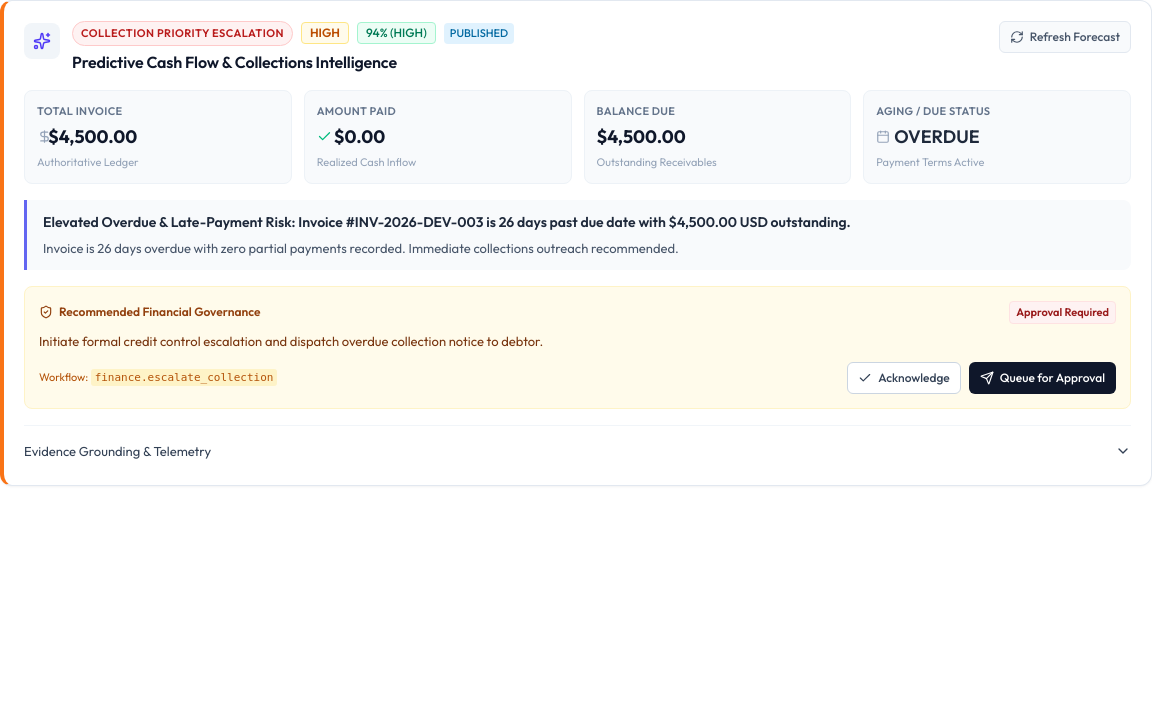
FinanceCollectionsPredictiveIntelligenceCard › expands telemetry and displays grounding sources and signals
The image size is (1152, 720).
expect the text "Evidence Grounding & Telemetry" is shown: met, box [24,442,211,461]
Click the button "Evidence Grounding & Telemetry": (118, 451) [24,438,1131,465]
(page scrolled)
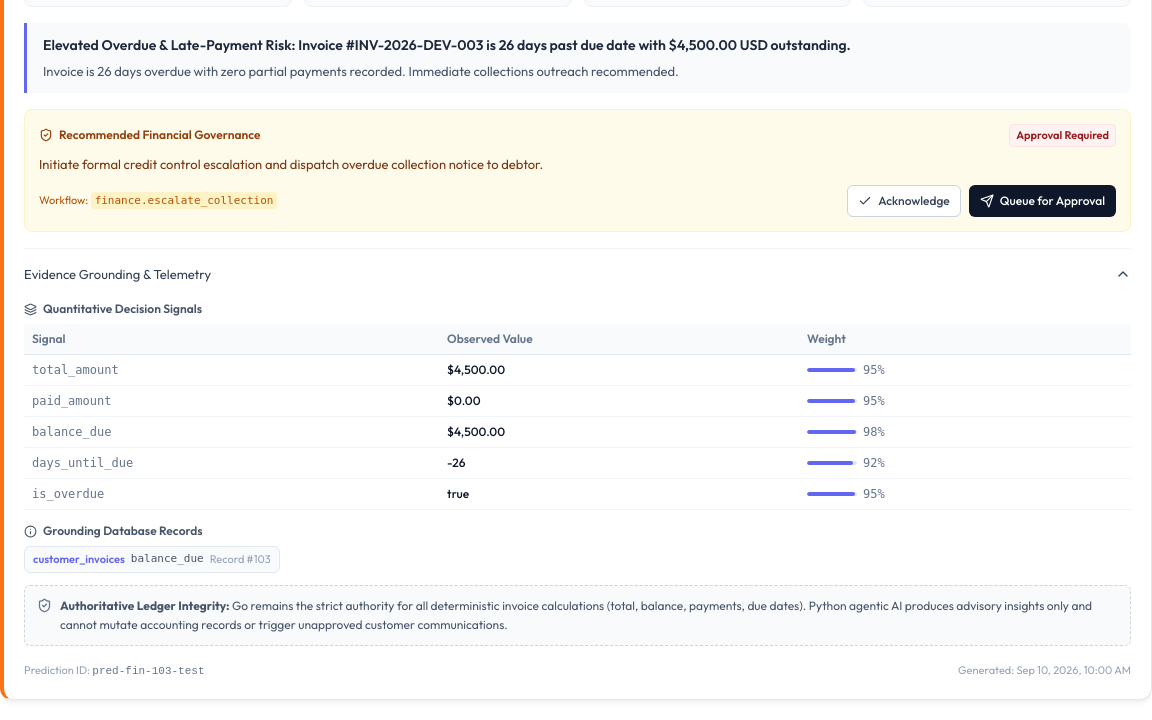
expect the text "Quantitative Decision Signals" is shown: met, box [43,300,202,318]
expect the text "Grounding Database Records" is shown: met, box [43,522,203,540]
expect the text "total_amount" is shown: met, box [24,355,439,386]
